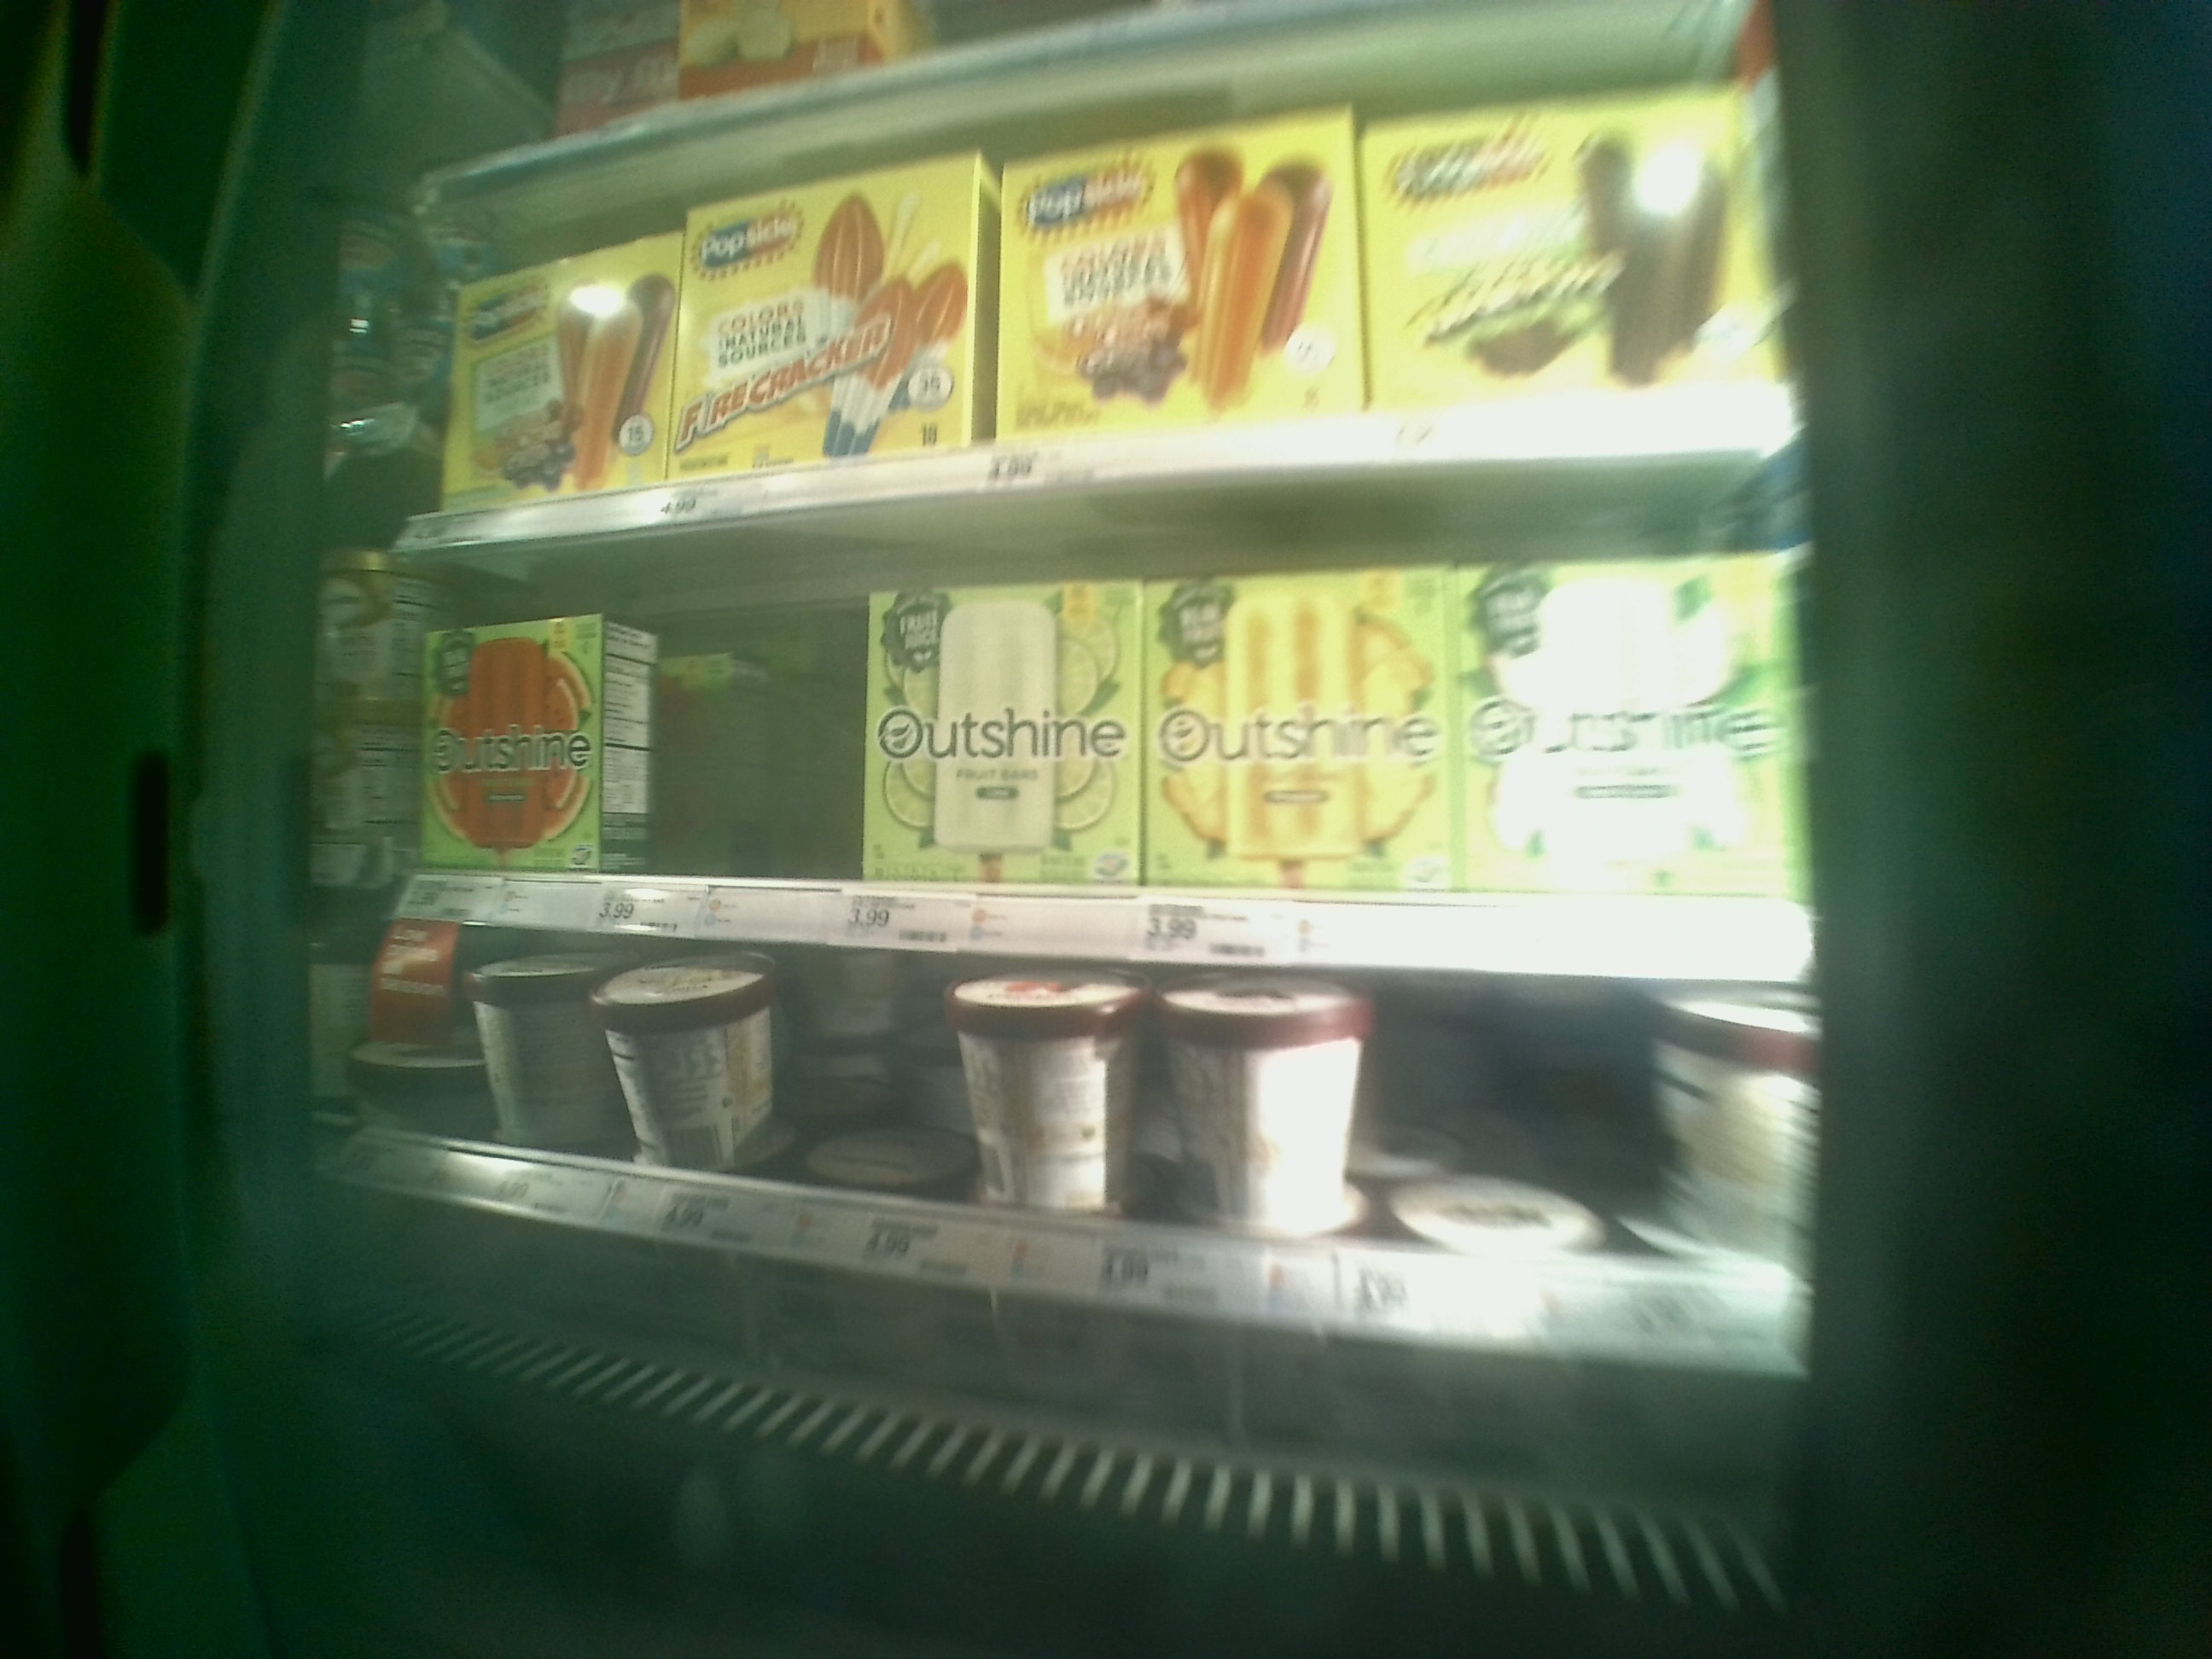shelf: (380, 929, 1839, 1439), (399, 455, 1815, 979)
